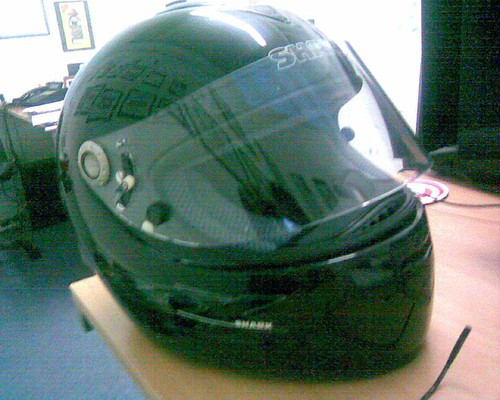helmet: (51, 1, 443, 386)
